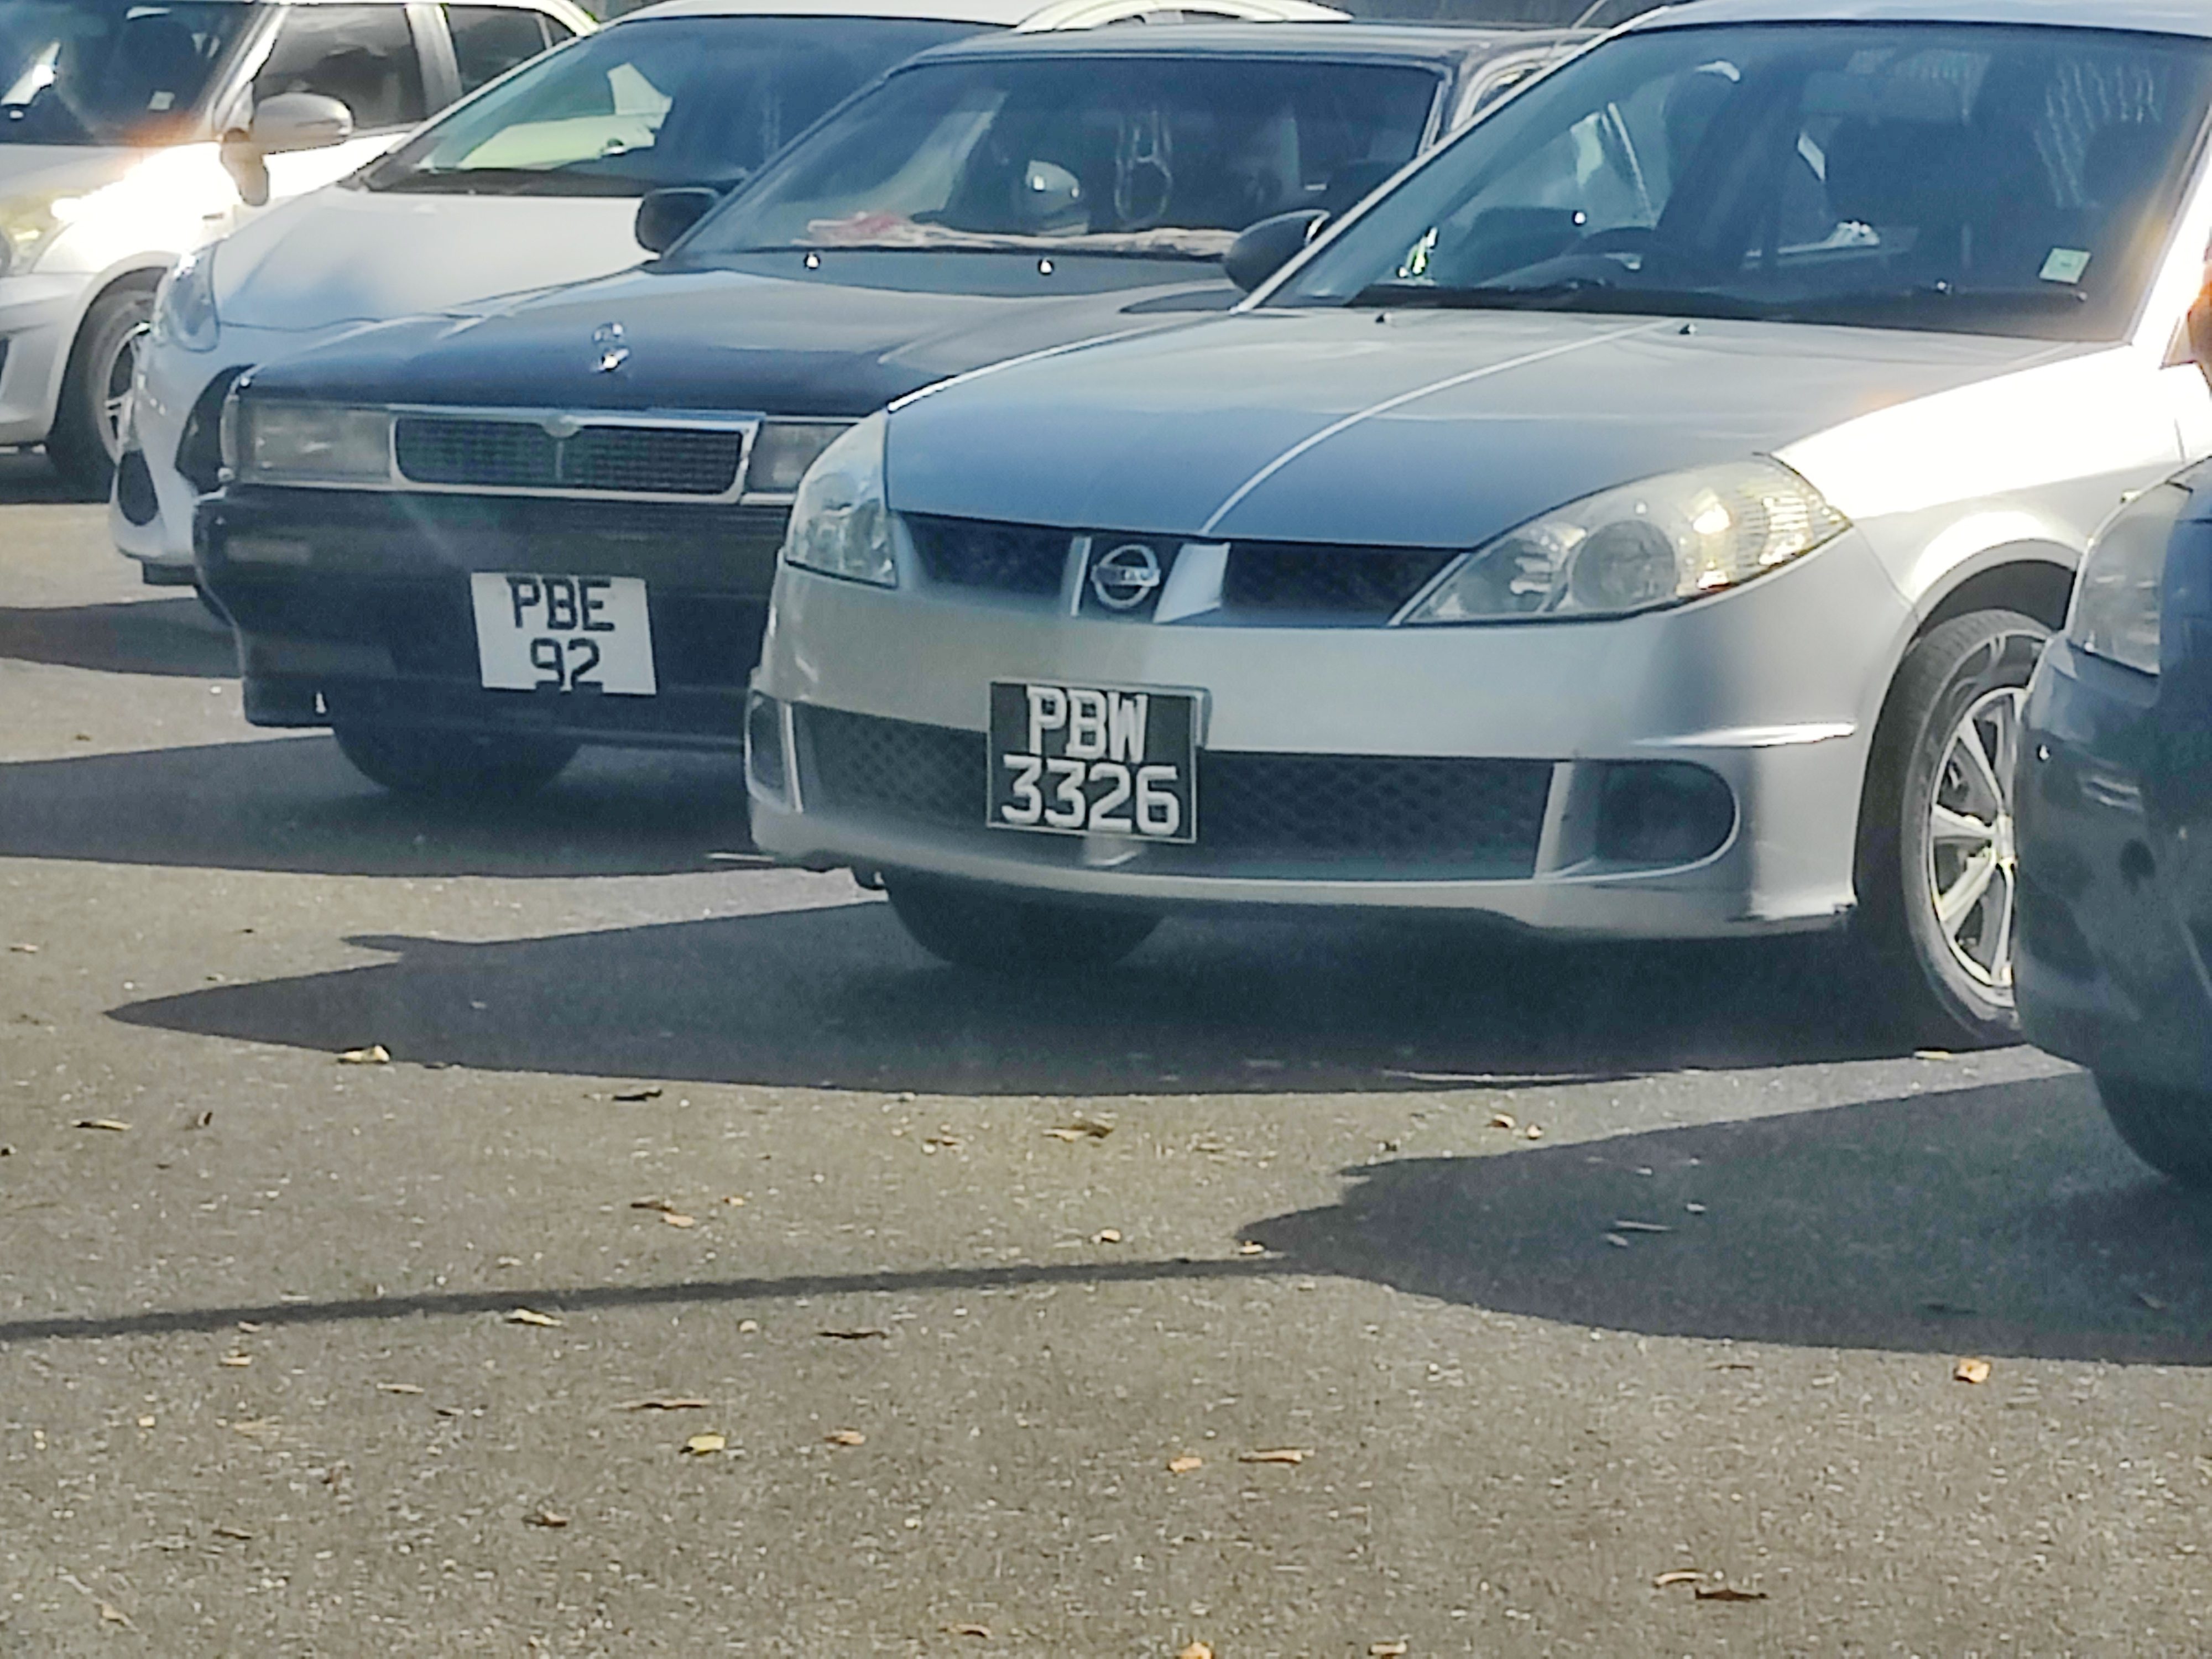License-Plate: (998, 676, 1199, 828), (483, 573, 645, 697)
